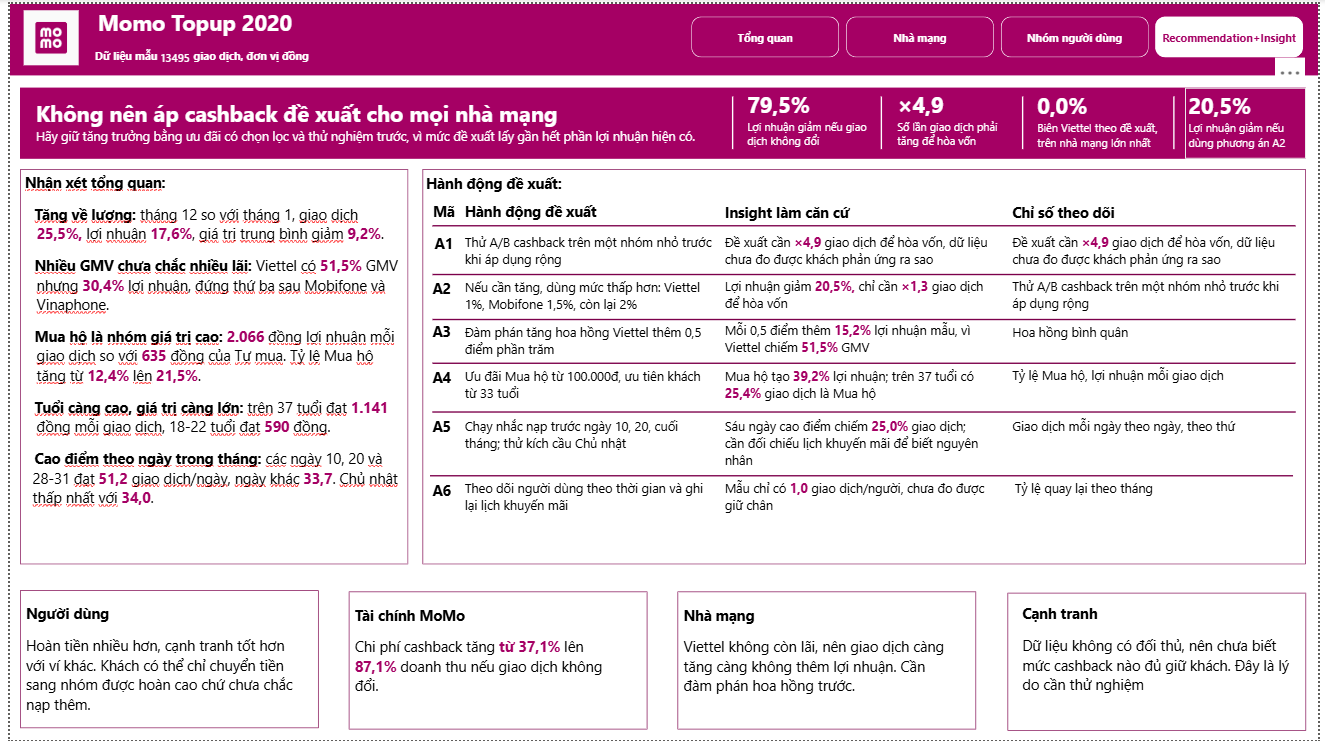

Layout of this report page (visuals, bound fields, positions):
{"tool":"powerbi","page":{"name":"Recommendation+Insight","canvas":[1920,1080],"ordinal":3},"visuals":[{"type":"shape","box":[0,0,1920.5,104.6],"z":0},{"type":"textbox","box":[106.4,0,407.2,97.2],"z":0,"group":"g1"},{"type":"cardVisual","fields":{"Data":["_Measures.Profit Margin Change"]},"box":[542.9,244.4,124.7,40.4],"z":0,"group":"g2"},{"type":"shape","box":[14.6,859.8,438.3,202.4],"z":0,"group":"g3"},{"type":"shape","box":[497.4,861.6,438.3,202.4],"z":0,"group":"g5"},{"type":"shape","box":[980.2,861.6,438.3,202.4],"z":0,"group":"g4"},{"type":"shape","box":[1463,864,438.3,202.4],"z":0,"group":"g6"},{"type":"image","box":[0,9.2,121.1,80.7],"z":1000},{"type":"cardVisual","fields":{"Data":["_Measures.Total Transactions"]},"box":[191.9,49.5,106.4,55],"z":1000,"group":"g1"},{"type":"cardVisual","fields":{"Data":["_Measures.PM Change Icon"]},"box":[550,242.1,68.5,42.2],"z":1000,"group":"g2"},{"type":"textbox","box":[18.1,875,408.2,175.3],"z":1000,"group":"g3"},{"type":"textbox","box":[1479.8,875.3,407,175.3],"z":1000,"group":"g6"},{"type":"textbox","box":[500.9,876.8,408.2,175.3],"z":1000,"group":"g5"},{"type":"textbox","box":[983.7,876.8,408.2,175.3],"z":1000,"group":"g4"},{"type":"group","id":"g1","title":"Group 1","box":[106.4,0,407.2,104.6],"z":2000},{"type":"pageNavigator","box":[999.7,18.3,900.6,60.5],"z":3000},{"type":"group","id":"g2","title":"Group 6","box":[542.9,242.1,166.9,42.2],"z":4000},{"type":"shape","box":[14.6,123.1,1886.6,104.3],"z":5000},{"type":"textbox","box":[33.4,133.6,1886.6,79.3],"z":6000},{"type":"textbox","box":[1076.9,121,185.7,104.3],"z":7000},{"type":"textbox","box":[1296,121,173.2,104.3],"z":8000},{"type":"textbox","box":[1502.6,123.1,187.8,104.3],"z":9000},{"type":"textbox","box":[1723.8,123.1,177.4,104.3],"z":10000},{"type":"shape","box":[1043.5,135.7,33.4,77.2],"z":11000},{"type":"shape","box":[1262.6,135.7,33.4,77.2],"z":12000},{"type":"shape","box":[1469.2,135.7,33.4,77.2],"z":13000},{"type":"shape","box":[1690.4,135.7,33.4,77.2],"z":14000},{"type":"textbox","box":[613.2,249.9,96.6,34.9],"z":14001,"group":"g2"},{"type":"shape","box":[14.6,242.1,569.7,580.2],"z":15000},{"type":"textbox","box":[16.7,242.1,569.7,580.2],"z":16000},{"type":"shape","box":[605.2,242.1,1296,580.2],"z":17000},{"type":"textbox","box":[605.2,244.2,256.7,48],"z":18000},{"type":"textbox","box":[661.6,283.8,381.9,48],"z":19000},{"type":"textbox","box":[605.2,283.8,62.6,48],"z":20000},{"type":"textbox","box":[605.2,331.8,62.6,64.7],"z":21000},{"type":"textbox","box":[661.6,331.8,381.9,64.7],"z":22000},{"type":"textbox","box":[1043.5,285.9,421.6,45.9],"z":23000},{"type":"textbox","box":[1043.5,331.8,407,64.7],"z":24000},{"type":"textbox","box":[1465,285.9,296.3,45.9],"z":25000},{"type":"textbox","box":[1465,331.8,421.6,64.7],"z":26000},{"type":"textbox","box":[605.2,461.2,56.3,64.7],"z":27000},{"type":"textbox","box":[661.6,398.6,381.9,64.7],"z":28000},{"type":"textbox","box":[1043.5,396.5,407,64.7],"z":29000},{"type":"textbox","box":[1465,396.5,421.6,64.7],"z":30000},{"type":"shape","box":[619.8,390.3,1266.8,12.5],"z":31000},{"type":"shape","box":[619.8,457,1266.8,12.5],"z":32000},{"type":"textbox","box":[661.6,463.3,381.9,64.7],"z":33000},{"type":"textbox","box":[1043.5,461.2,407,64.7],"z":34000},{"type":"textbox","box":[1465,463.3,417.4,64.7],"z":35000},{"type":"textbox","box":[605.2,398.6,56.3,64.7],"z":36000},{"type":"shape","box":[619.8,319.3,1266.8,12.5],"z":37000},{"type":"shape","box":[619.8,521.7,1266.8,12.5],"z":38000},{"type":"textbox","box":[605.2,528,56.3,64.7],"z":39000},{"type":"textbox","box":[661.6,528,375.7,64.7],"z":40000},{"type":"textbox","box":[1043.5,528,407,64.7],"z":41000},{"type":"textbox","box":[1465,525.9,417.4,64.7],"z":42000},{"type":"shape","box":[619.8,592.7,1266.8,12.5],"z":43000},{"type":"textbox","box":[605.2,599,56.3,64.7],"z":44000},{"type":"textbox","box":[661.6,601,375.7,64.7],"z":45000},{"type":"textbox","box":[1043.5,601,392.3,98.1],"z":46000},{"type":"textbox","box":[1465,601,417.4,64.7],"z":47000},{"type":"shape","box":[615.7,686.6,1266.8,12.5],"z":48000},{"type":"textbox","box":[605.2,692.9,56.3,64.7],"z":49000},{"type":"textbox","box":[661.6,692.9,375.7,64.7],"z":50000},{"type":"textbox","box":[1043.5,692.9,407,64.7],"z":51000},{"type":"textbox","box":[1469.2,692.9,413.2,64.7],"z":52000},{"type":"group","id":"g3","title":"Group 2","box":[14.6,859.8,438.3,202.4],"z":53000},{"type":"group","id":"g4","title":"Group 2","box":[980.2,861.6,438.3,202.4],"z":54000},{"type":"group","id":"g5","title":"Group 2","box":[497.4,861.6,438.3,202.4],"z":55000},{"type":"group","id":"g6","title":"Group 2","box":[1463,864,438.3,202.4],"z":56000}]}

Visuals, with their boxes in screenshot pixels (x1, y1, x2, y2), scaled from the page's 1920x1080 canvas onto the 1325x742 screenshot:
shape: [x1=0, y1=0, x2=1324, y2=72]
textbox: [x1=73, y1=0, x2=354, y2=67]
cardVisual - _Measures.Profit Margin Change: [x1=375, y1=168, x2=461, y2=196]
shape: [x1=10, y1=591, x2=313, y2=730]
shape: [x1=343, y1=592, x2=646, y2=731]
shape: [x1=676, y1=592, x2=979, y2=731]
shape: [x1=1010, y1=594, x2=1312, y2=733]
image: [x1=0, y1=6, x2=84, y2=62]
cardVisual - _Measures.Total Transactions: [x1=132, y1=34, x2=206, y2=72]
cardVisual - _Measures.PM Change Icon: [x1=380, y1=166, x2=427, y2=195]
textbox: [x1=12, y1=601, x2=294, y2=722]
textbox: [x1=1021, y1=601, x2=1302, y2=722]
textbox: [x1=346, y1=602, x2=627, y2=723]
textbox: [x1=679, y1=602, x2=961, y2=723]
"Group 1" group: [x1=73, y1=0, x2=354, y2=72]
pageNavigator: [x1=690, y1=13, x2=1311, y2=54]
"Group 6" group: [x1=375, y1=166, x2=490, y2=195]
shape: [x1=10, y1=85, x2=1312, y2=156]
textbox: [x1=23, y1=92, x2=1324, y2=146]
textbox: [x1=743, y1=83, x2=871, y2=155]
textbox: [x1=894, y1=83, x2=1014, y2=155]
textbox: [x1=1037, y1=85, x2=1167, y2=156]
textbox: [x1=1190, y1=85, x2=1312, y2=156]
shape: [x1=720, y1=93, x2=743, y2=146]
shape: [x1=871, y1=93, x2=894, y2=146]
shape: [x1=1014, y1=93, x2=1037, y2=146]
shape: [x1=1167, y1=93, x2=1190, y2=146]
textbox: [x1=423, y1=172, x2=490, y2=196]
shape: [x1=10, y1=166, x2=403, y2=565]
textbox: [x1=12, y1=166, x2=405, y2=565]
shape: [x1=418, y1=166, x2=1312, y2=565]
textbox: [x1=418, y1=168, x2=595, y2=201]
textbox: [x1=457, y1=195, x2=720, y2=228]
textbox: [x1=418, y1=195, x2=461, y2=228]
textbox: [x1=418, y1=228, x2=461, y2=272]
textbox: [x1=457, y1=228, x2=720, y2=272]
textbox: [x1=720, y1=196, x2=1011, y2=228]
textbox: [x1=720, y1=228, x2=1001, y2=272]
textbox: [x1=1011, y1=196, x2=1215, y2=228]
textbox: [x1=1011, y1=228, x2=1302, y2=272]
textbox: [x1=418, y1=317, x2=457, y2=361]
textbox: [x1=457, y1=274, x2=720, y2=318]
textbox: [x1=720, y1=272, x2=1001, y2=317]
textbox: [x1=1011, y1=272, x2=1302, y2=317]
shape: [x1=428, y1=268, x2=1302, y2=277]
shape: [x1=428, y1=314, x2=1302, y2=323]
textbox: [x1=457, y1=318, x2=720, y2=363]
textbox: [x1=720, y1=317, x2=1001, y2=361]
textbox: [x1=1011, y1=318, x2=1299, y2=363]
textbox: [x1=418, y1=274, x2=457, y2=318]
shape: [x1=428, y1=219, x2=1302, y2=228]
shape: [x1=428, y1=358, x2=1302, y2=367]
textbox: [x1=418, y1=363, x2=457, y2=407]
textbox: [x1=457, y1=363, x2=716, y2=407]
textbox: [x1=720, y1=363, x2=1001, y2=407]
textbox: [x1=1011, y1=361, x2=1299, y2=406]
shape: [x1=428, y1=407, x2=1302, y2=416]
textbox: [x1=418, y1=412, x2=457, y2=456]
textbox: [x1=457, y1=413, x2=716, y2=457]
textbox: [x1=720, y1=413, x2=991, y2=480]
textbox: [x1=1011, y1=413, x2=1299, y2=457]
shape: [x1=425, y1=472, x2=1299, y2=480]
textbox: [x1=418, y1=476, x2=457, y2=520]
textbox: [x1=457, y1=476, x2=716, y2=520]
textbox: [x1=720, y1=476, x2=1001, y2=520]
textbox: [x1=1014, y1=476, x2=1299, y2=520]
"Group 2" group: [x1=10, y1=591, x2=313, y2=730]
"Group 2" group: [x1=676, y1=592, x2=979, y2=731]
"Group 2" group: [x1=343, y1=592, x2=646, y2=731]
"Group 2" group: [x1=1010, y1=594, x2=1312, y2=733]
